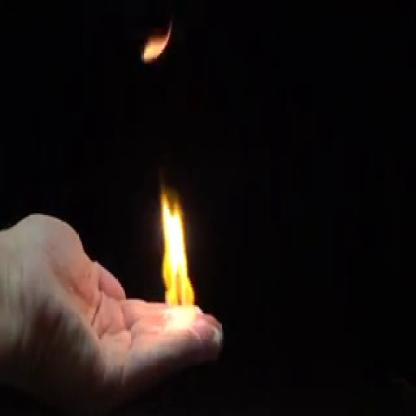fire: (155, 186, 200, 335), (135, 15, 177, 68)
